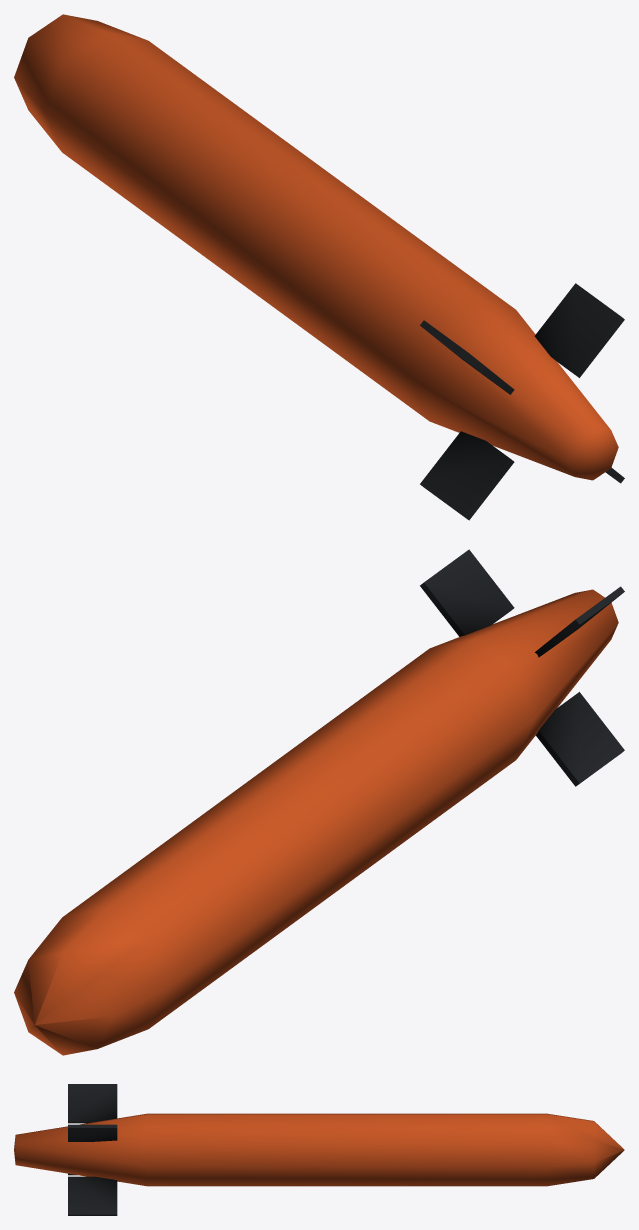
File: auv_LOD1.glb
3 renders of one model, top to bottom at view 1: azimuth 30°, elevation 25°; view 2: azimuth 150°, elevation 25°; view 3: azimuth 270°, elevation 25°, orthographic. The views are drawn at different scales.
Visible parts, largest first — view 1: Hull, Rubber; view 2: Hull, Rubber; view 3: Hull, Rubber.
Boxes of the visible parts, left/top/right/bottom form: Hull: left=14, top=14, right=618, bottom=480; Rubber: left=420, top=283, right=624, bottom=520; Hull: left=14, top=589, right=618, bottom=1055; Rubber: left=420, top=549, right=624, bottom=786; Hull: left=14, top=1113, right=624, bottom=1186; Rubber: left=68, top=1084, right=117, bottom=1215.
Size of the model in its own units: 0.6534 by 0.6534 by 3.96.
